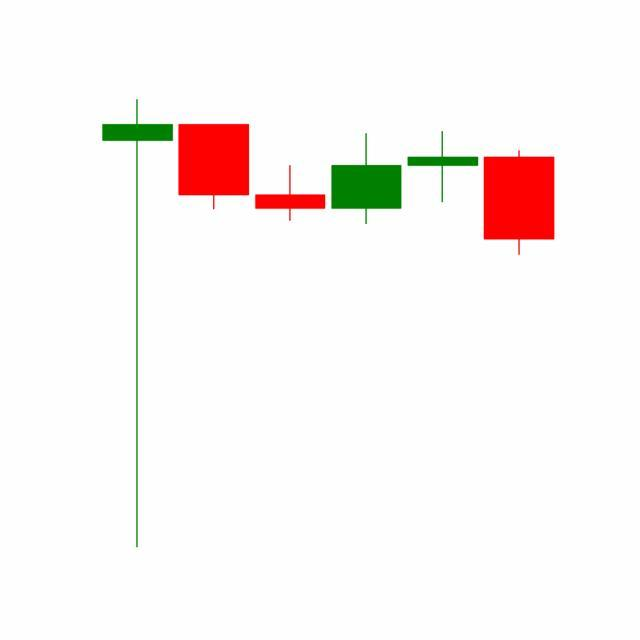Spinning Top: (404, 130, 482, 204)
